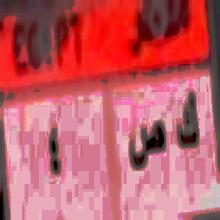4: (49, 122, 62, 180)
kaaf: (174, 88, 200, 160)
saad: (128, 118, 167, 174)
